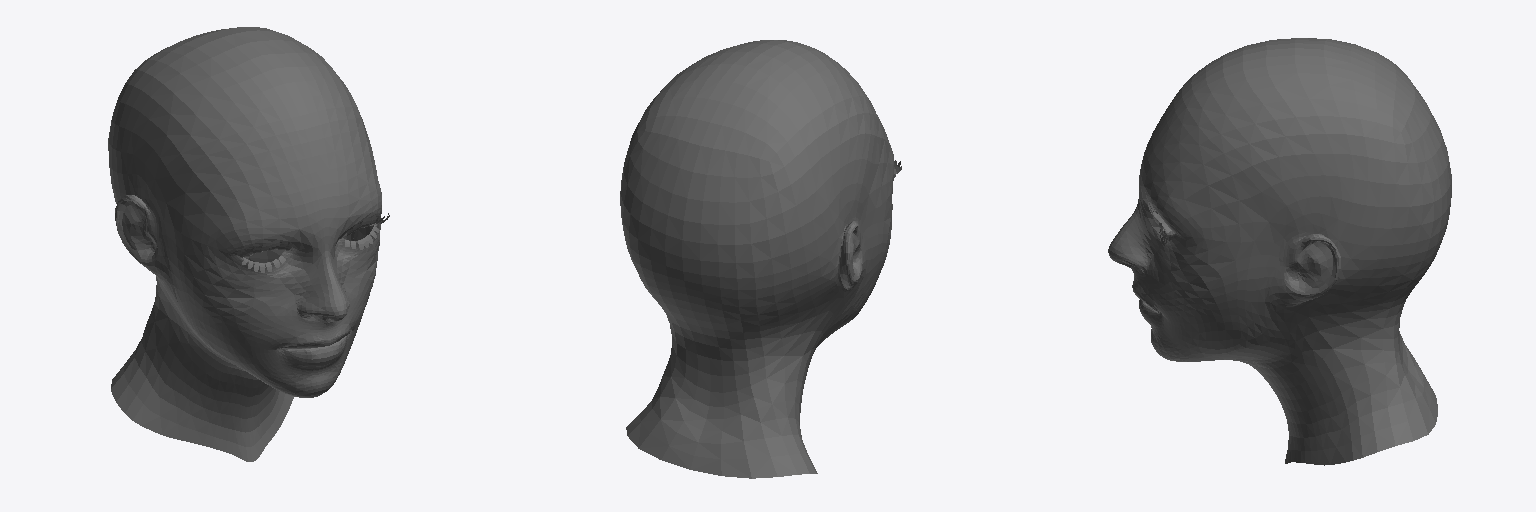
File: UrsulaHead.obj
The picture shows the model from 3 angles: view 1: azimuth 30°, elevation 25°; view 2: azimuth 150°, elevation 25°; view 3: azimuth 270°, elevation 25°; orthographic projection.
Visible parts, largest first — view 1: Plane_012.002; view 2: Plane_012.002; view 3: Plane_012.002.
Boxes of the visible parts, box(x1,y1,x2,y2) form: Plane_012.002: box(108, 27, 389, 461); Plane_012.002: box(620, 40, 901, 478); Plane_012.002: box(1108, 38, 1451, 465).
Size of the model in its own units: 7.03 by 12.58 by 9.43.